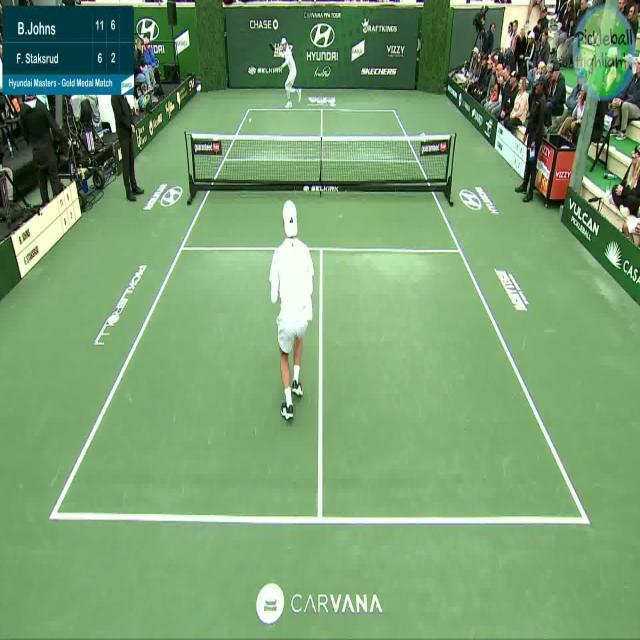ball: (249, 116, 252, 124)
